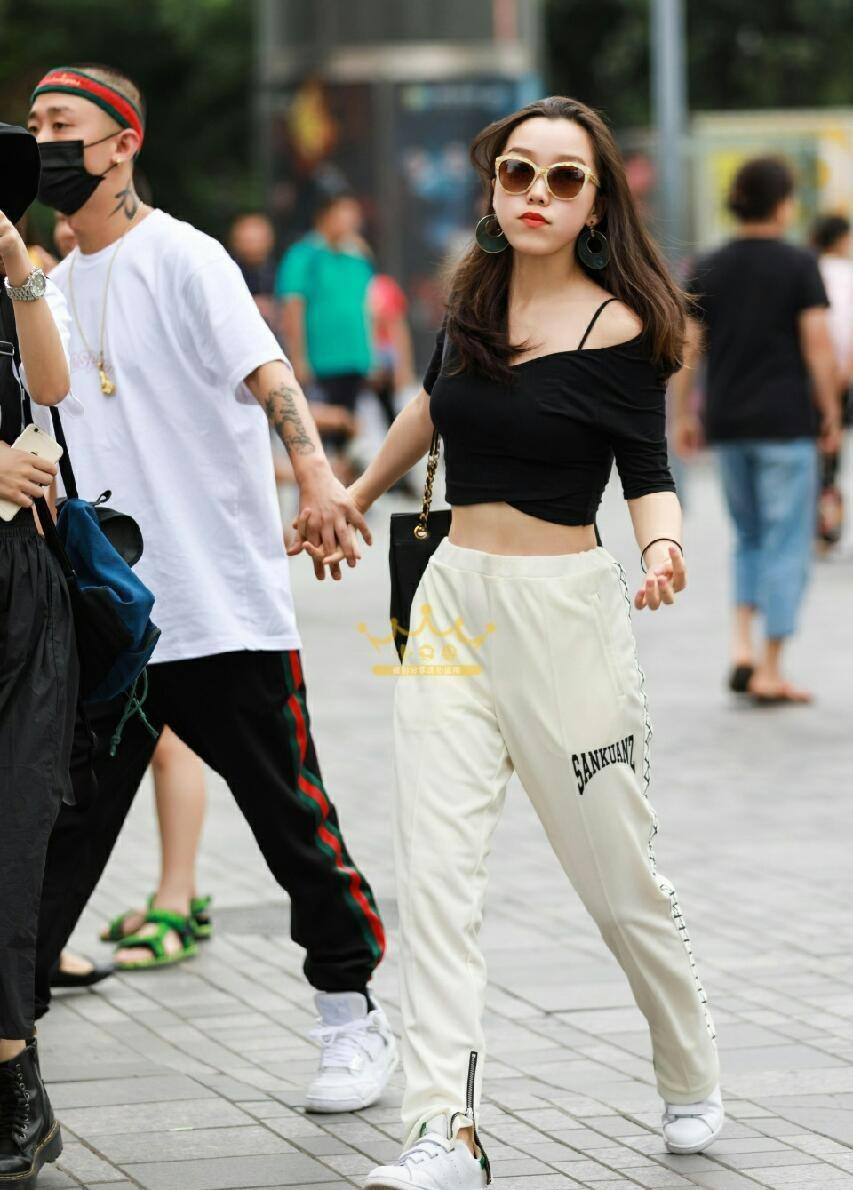NONE: (489, 141, 599, 256)
WRONG: (19, 104, 120, 205)
